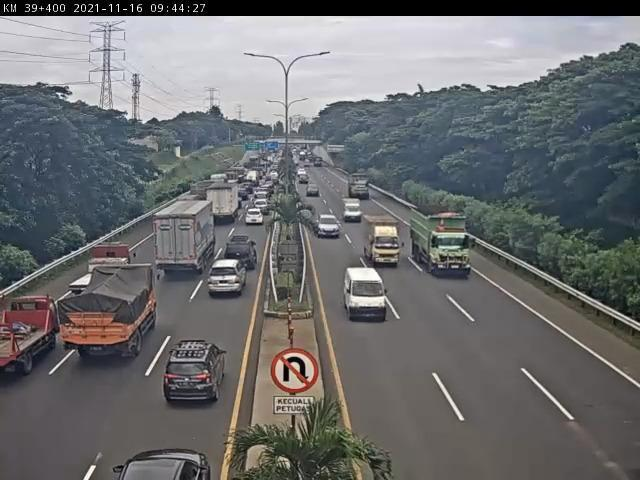car: (109, 438, 233, 480), (162, 343, 229, 407), (340, 262, 396, 329), (206, 255, 248, 303), (220, 232, 266, 272), (311, 212, 345, 242), (244, 207, 266, 228), (305, 182, 325, 201)
truck: (54, 261, 161, 366), (1, 278, 65, 392), (155, 200, 220, 279), (411, 209, 481, 279), (64, 241, 143, 299), (362, 216, 405, 271), (205, 182, 246, 229), (346, 172, 374, 203), (340, 197, 367, 226)
